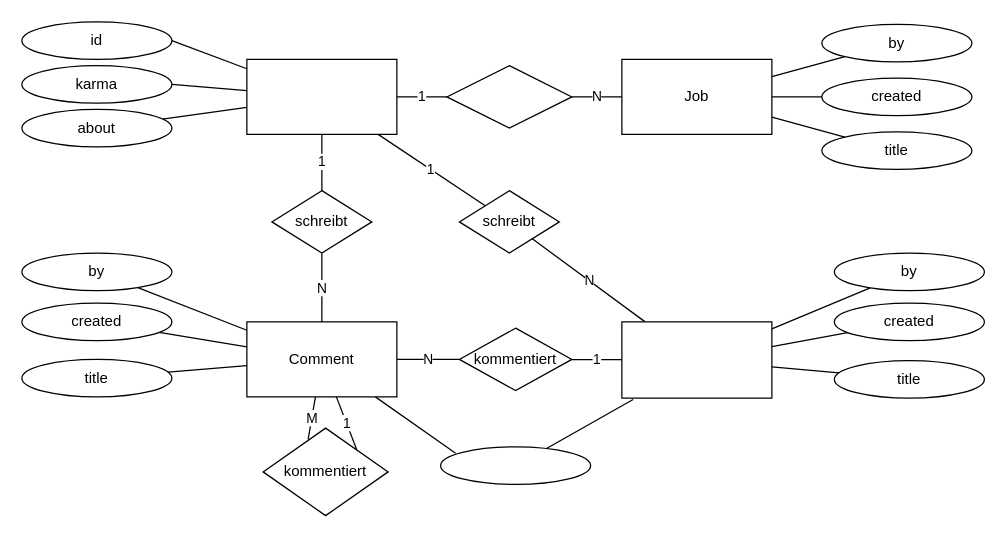
The diagram is 1006 pixels wide and 538 high, and some of its shapes have lost their labels. The shapes that lost their labels are listed below. From the top down, each one's centre as x and y in pixels, then its label:
the point at 321,96: User
the point at 509,96: veröffentlicht
the point at 696,359: Story
the point at 515,465: parent
